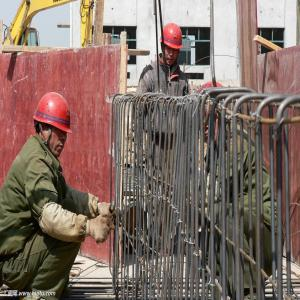red: (35, 93, 72, 158), (161, 23, 183, 66)
